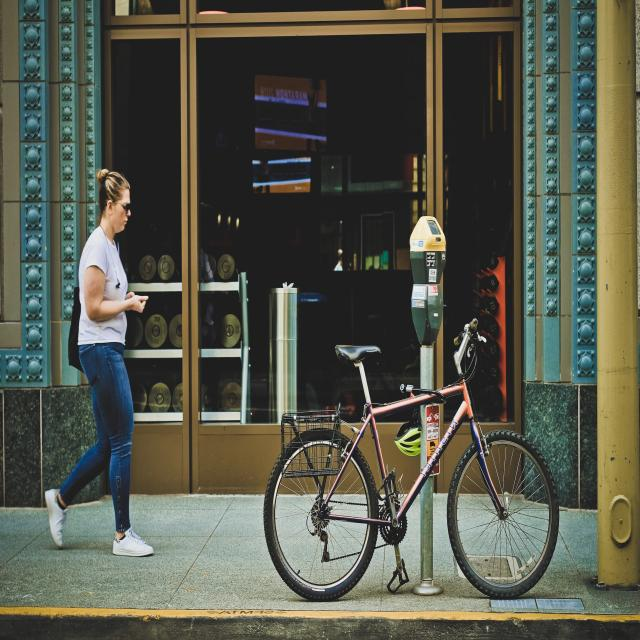adult: (43, 168, 156, 557)
